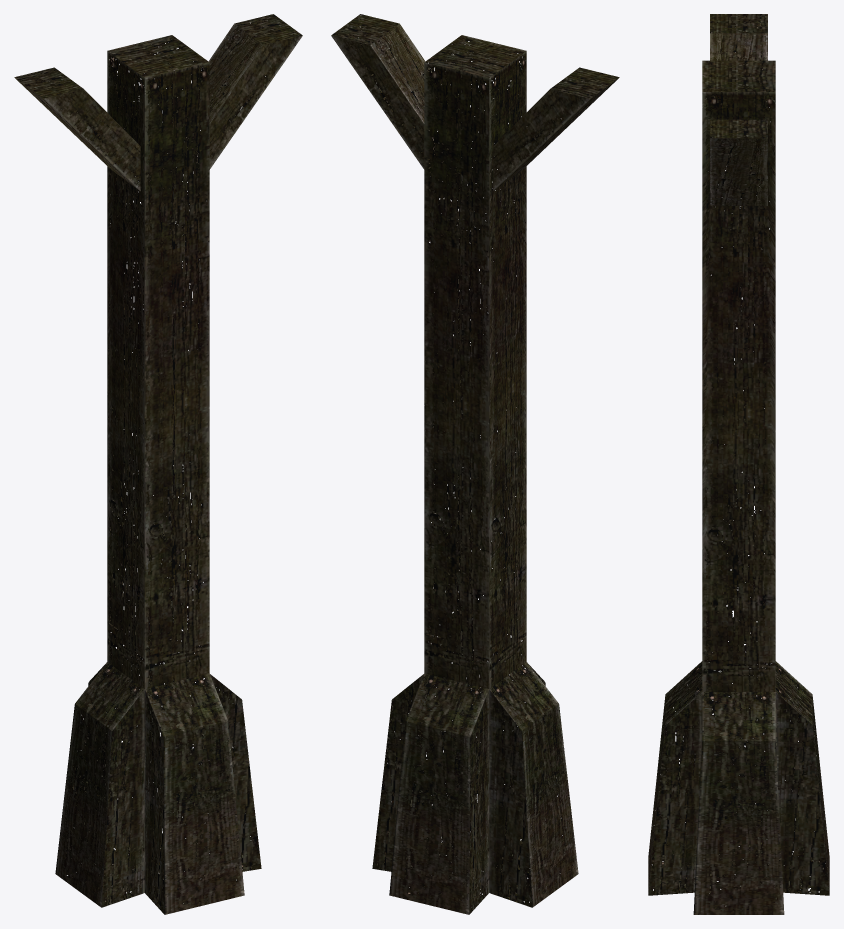
Rendered from wood_tall.dae.
3 views of the same model, side by side, from view 1: azimuth 30°, elevation 25°; view 2: azimuth 150°, elevation 25°; view 3: azimuth 270°, elevation 25° (orthographic).
Parts seen in each view (by area): view 1: pCube3; view 2: pCube3; view 3: pCube3.
Boxes of the visible parts, bbox=[...] form: pCube3: bbox=[14, 14, 302, 914]; pCube3: bbox=[331, 14, 619, 914]; pCube3: bbox=[648, 14, 829, 914].
Bounding box in the file's own units: 2 × 6 × 1.23.
